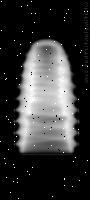Cowellmedi: (15, 35, 78, 154)
